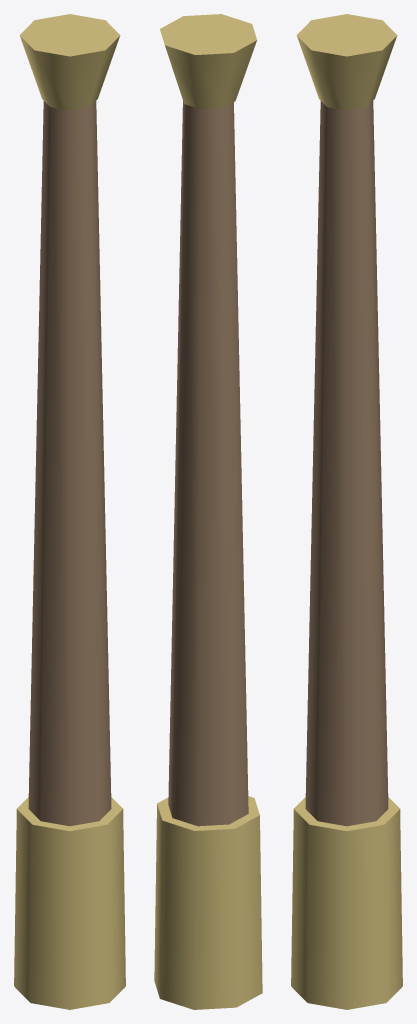
File: player_wand.glb
The picture shows the model from 3 angles, left to right: view 1: azimuth 90°, elevation 25°; view 2: azimuth 210°, elevation 25°; view 3: azimuth 270°, elevation 25°; orthographic projection.
Parts seen in each view (by area): view 1: player_wand; view 2: player_wand; view 3: player_wand.
Boxes of the visible parts, x1,y1,x2,y2 form: player_wand: [14, 14, 125, 1009]; player_wand: [154, 14, 262, 1009]; player_wand: [291, 14, 402, 1009].
Bounding box in the file's own units: 0.04 × 0.375 × 0.04.
